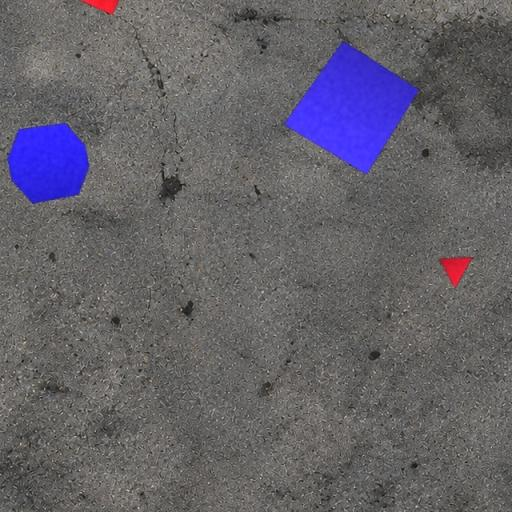BLUE_SQUARE: (283, 40, 419, 175)
